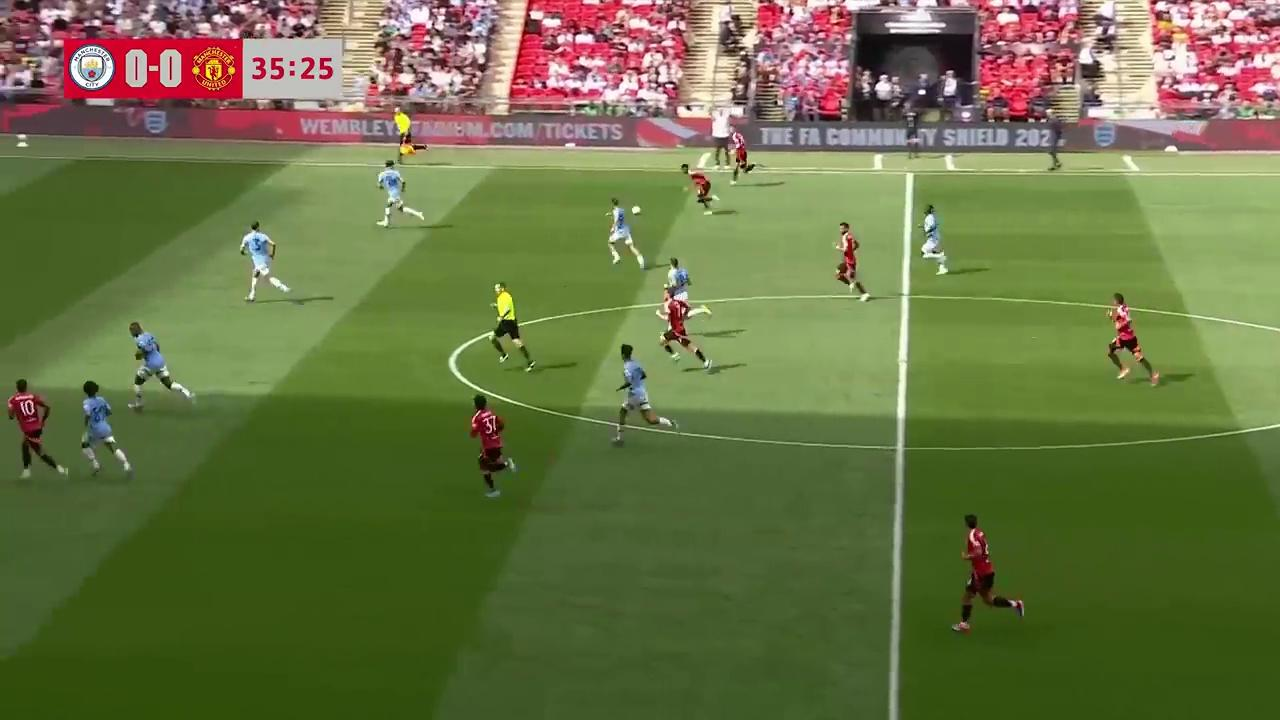ball: (631, 202, 642, 215)
player: (952, 513, 1025, 633), (6, 379, 69, 481), (127, 320, 195, 411), (78, 380, 135, 479), (952, 515, 999, 633), (611, 343, 664, 445), (1104, 293, 1160, 383), (469, 396, 517, 497), (656, 288, 714, 369), (239, 221, 289, 303), (490, 282, 534, 368), (376, 159, 424, 228), (833, 221, 871, 302), (606, 199, 644, 268), (659, 257, 691, 328), (919, 204, 948, 274), (682, 162, 717, 215), (729, 135, 752, 183)
referee: (490, 282, 531, 365), (393, 107, 415, 163)
